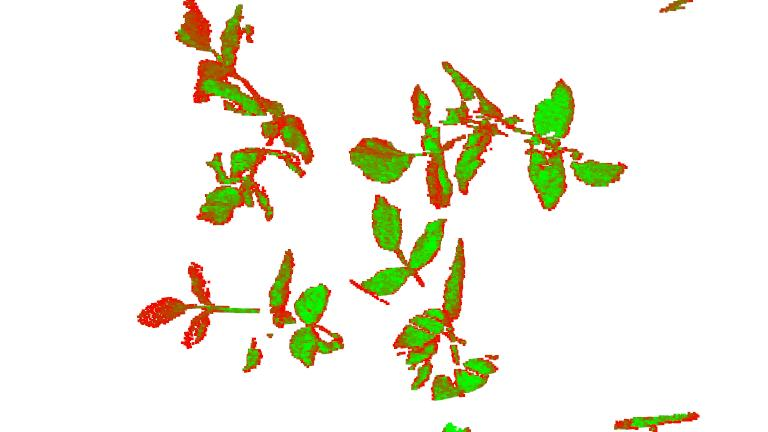mungbean: (339, 57, 629, 210), (165, 2, 314, 226), (135, 244, 347, 379), (350, 212, 501, 399)
